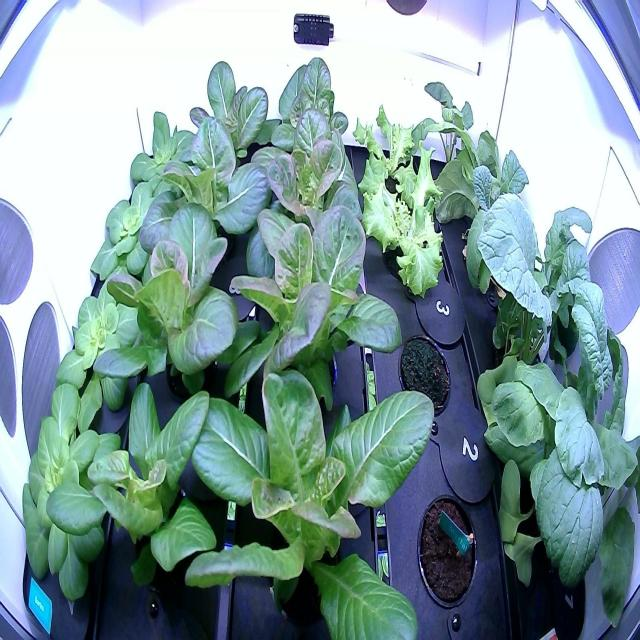pod: (409, 482, 484, 616), (390, 320, 455, 422)
young: (172, 334, 440, 640), (36, 354, 230, 614), (215, 176, 406, 430), (86, 186, 250, 415), (12, 370, 130, 609), (135, 109, 272, 277), (42, 243, 159, 431), (247, 106, 372, 259), (82, 160, 200, 318), (170, 40, 277, 180), (260, 42, 356, 177), (121, 92, 209, 218)
